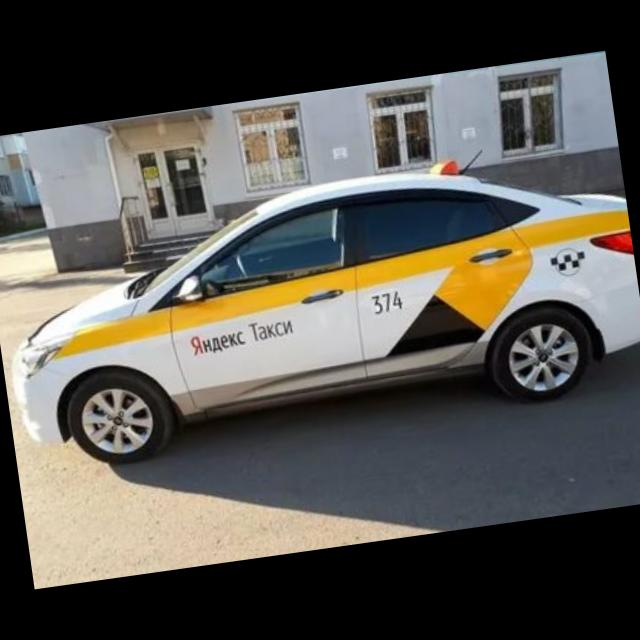taxi: (1, 131, 640, 477)
